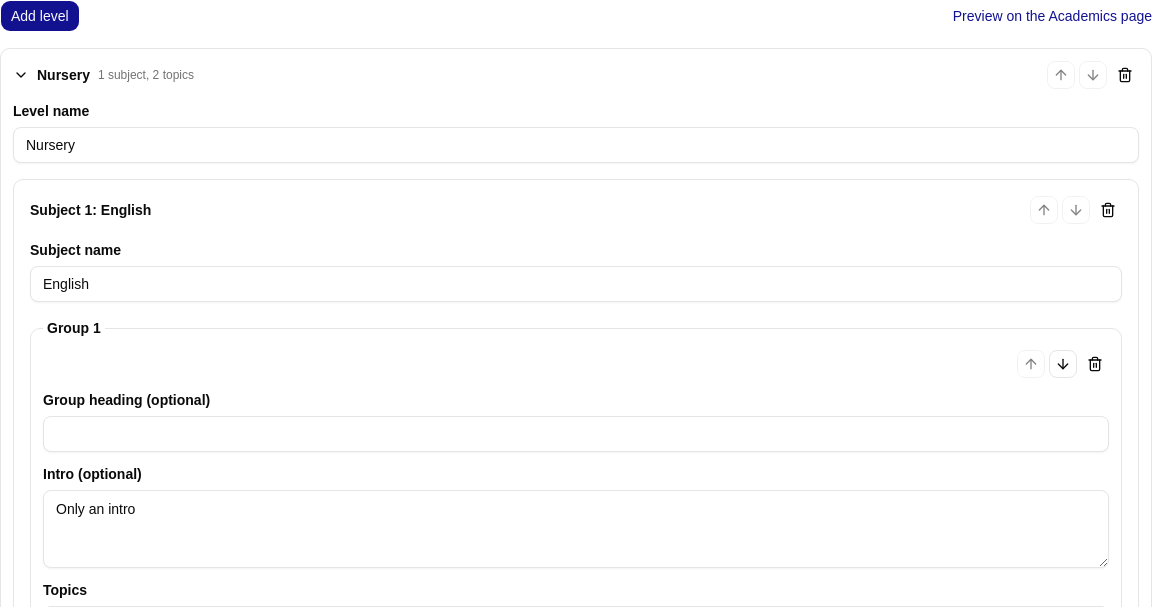
Test: SyllabusEditor (014b) › removing › a group with topics or an intro asks first
Click the button named "Remove group: group 1 of subject 1" at [1095, 364], box [1081,350,1109,378]
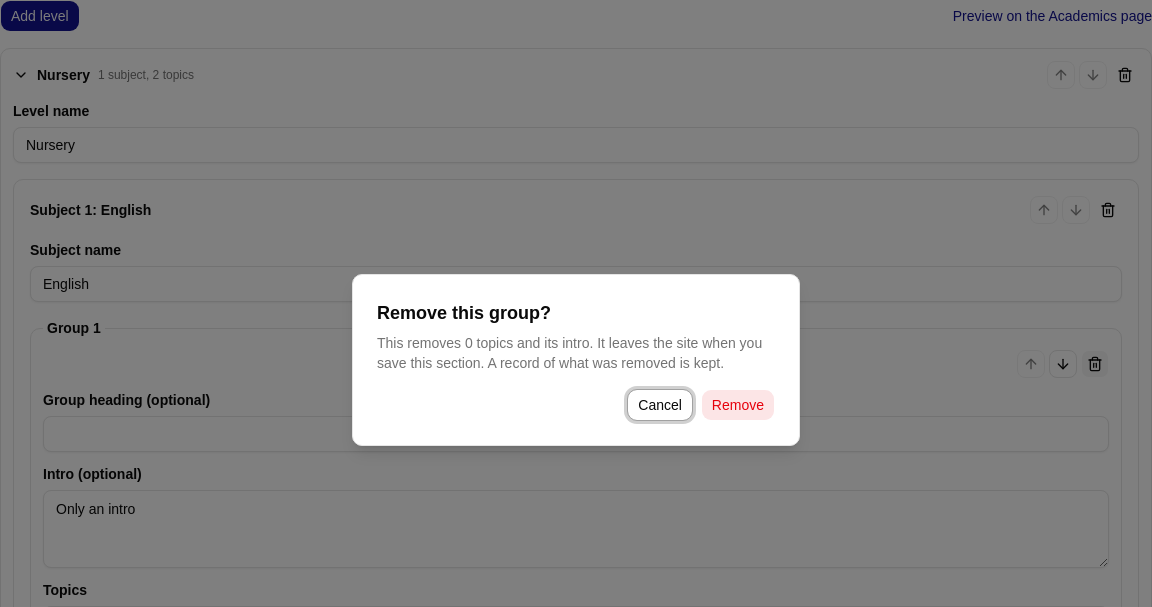
Now the text "This removes 0 topics and its intro" is shown, box [377,335,762,371]
Click the button "Cancel" at [660, 405], box [627,389,693,421]
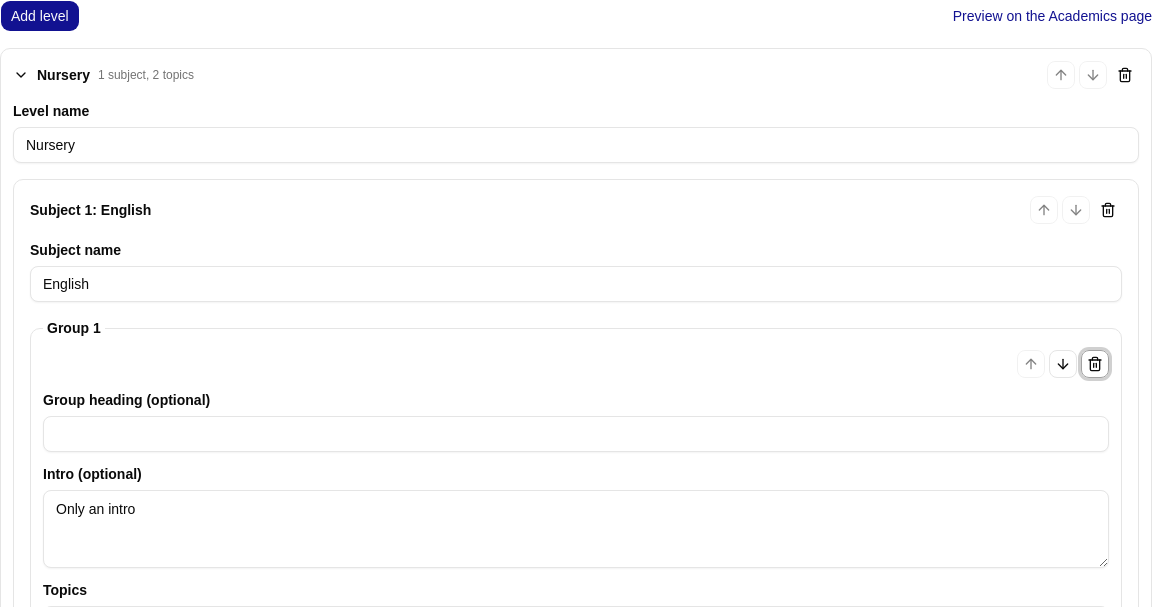
Now the text "This removes 0 topics" is gone
